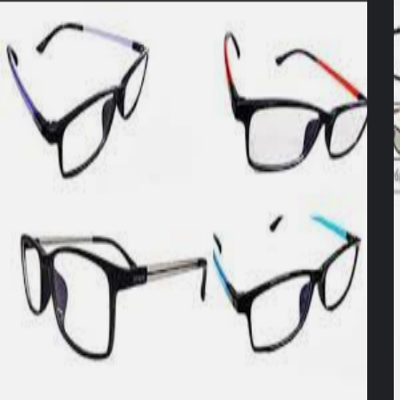glasses: (17, 228, 209, 366), (3, 19, 156, 187), (207, 212, 363, 354), (219, 29, 367, 175)
